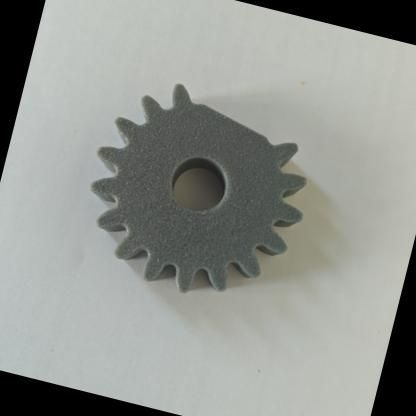defect: (148, 54, 318, 186)
gear: (46, 28, 350, 341)
